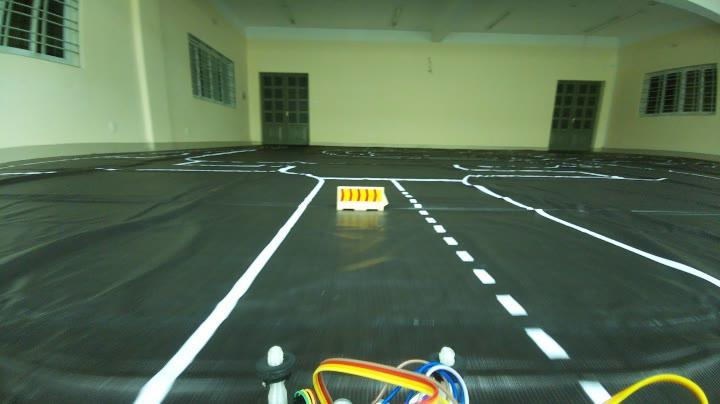roadblock: (334, 182, 392, 221)
